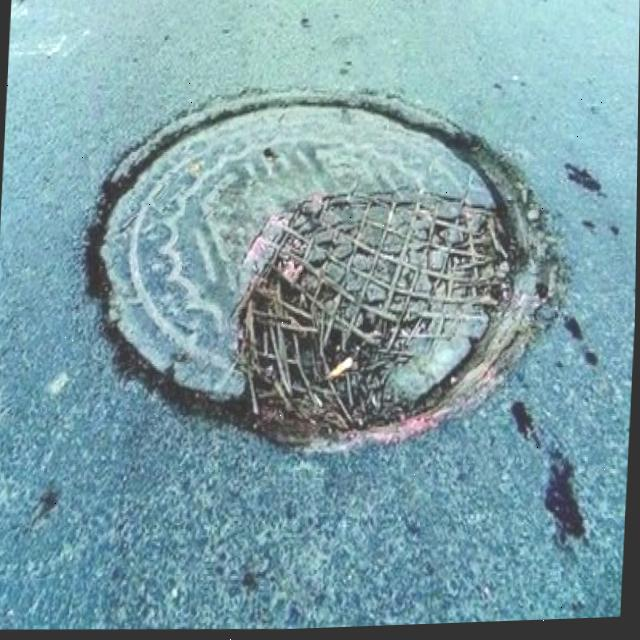manhole: (73, 64, 574, 467)
